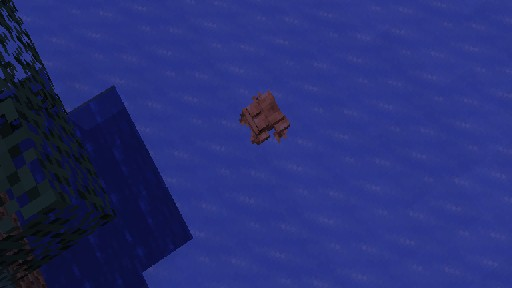frog: (238, 89, 290, 145)
